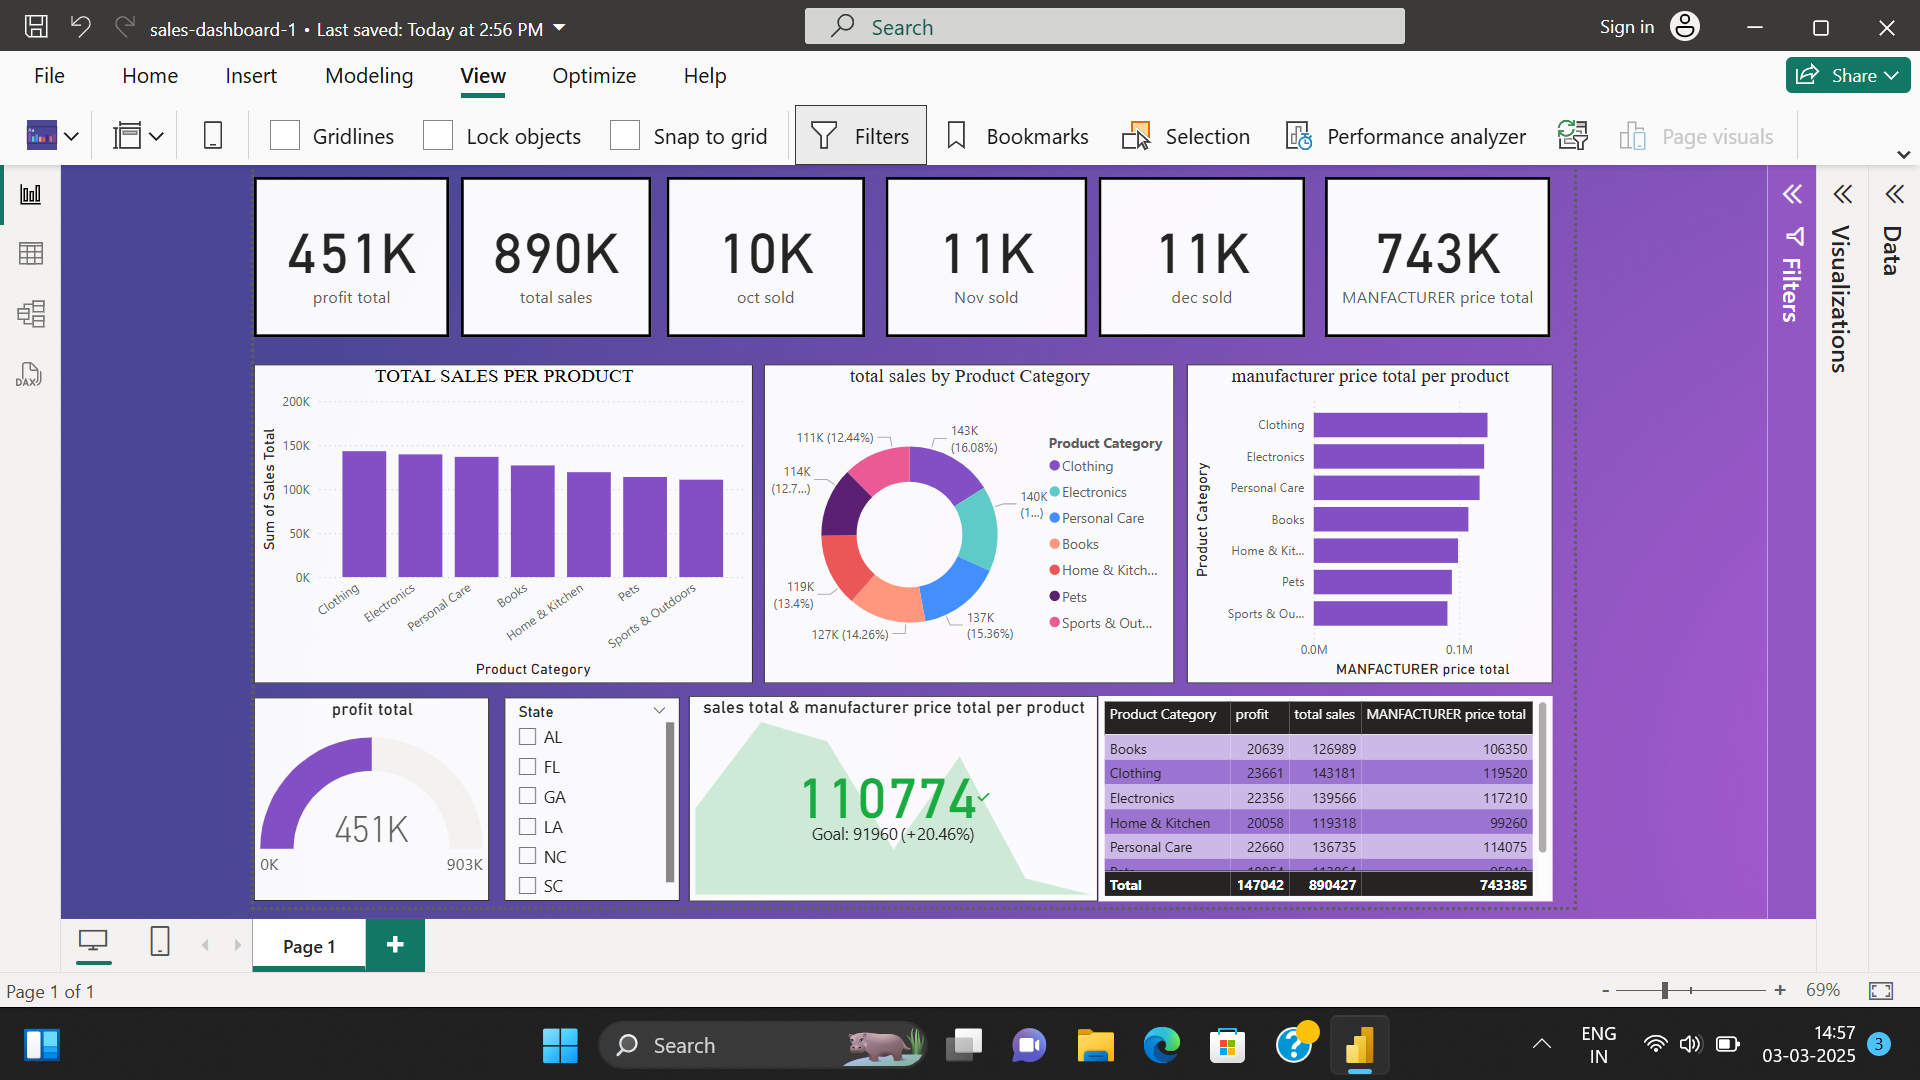

The page's visual inventory and layout, read from the dashboard file:
{"tool":"powerbi","page":{"name":"Page 1","canvas":[1280,720],"ordinal":0},"visuals":[{"type":"card","fields":{"Values":["Table134.profit total"]},"box":[0,11.3,189.4,155.4],"z":0},{"type":"card","fields":{"Values":["Table134.total sales"]},"box":[200.8,11.3,184.6,155.4],"z":1000},{"type":"slicer","fields":{"Values":["Table134.State"]},"box":[242.9,516.5,170,197.5],"z":2000},{"type":"card","fields":{"Values":["Table134.oct sold"]},"box":[399.9,11.3,192.7,155.4],"z":3000},{"type":"card","fields":{"Values":["Table134.Nov sold"]},"box":[612.1,11.3,195.9,155.4],"z":4000},{"type":"card","fields":{"Values":["Table134.dec sold"]},"box":[819.3,11.3,200.8,155.4],"z":5000},{"type":"clusteredColumnChart","title":"TOTAL SALES PER PRODUCT","fields":{"Category":["Table134.Product Category"],"Y":["Sum(Table134.Sales Total)"]},"box":[0,194.3,484.1,309.3],"z":6000},{"type":"gauge","fields":{"Y":["Table134.profit total"]},"box":[0,516.5,228.3,197.5],"z":7000},{"type":"donutChart","fields":{"Y":["Table134.total sales"],"Category":["Table134.Product Category"]},"box":[495.5,194.3,398.3,309.3],"z":8000},{"type":"card","fields":{"Values":["Table134.MANFACTURER price total"]},"box":[1039.5,11.3,218.6,155.4],"z":9000},{"type":"clusteredBarChart","title":"manufacturer price total per product","fields":{"Category":["Table134.Product Category"],"Y":["Table134.MANFACTURER price total"]},"box":[905.1,194.3,354.6,309.3],"z":10000},{"type":"kpi","title":"sales total & manufacturer price total per product","fields":{"TrendLine":["Table134.Product Category"],"Goal":["Table134.MANFACTURER price total"],"Indicator":["Sum(Table134.Sales Total)"]},"box":[422.6,514.9,396.7,199.2],"z":11000},{"type":"tableEx","fields":{"Values":["Table134.Product Category","Table134.profit","Table134.total sales","Table134.MANFACTURER price total"]},"box":[819.3,514.9,440.4,199.2],"z":12000}]}

Visuals, with their boxes on the page's 1280x720 design canvas (x1, y1, x2, y2). These are canvas units, not pixel positions in the 1920x1080 screenshot, which may show the page scaled, cropped or inside an application window:
card - Table134.profit total: {"left": 0, "top": 11, "right": 189, "bottom": 167}
card - Table134.total sales: {"left": 201, "top": 11, "right": 385, "bottom": 167}
slicer - Table134.State: {"left": 243, "top": 516, "right": 413, "bottom": 714}
card - Table134.oct sold: {"left": 400, "top": 11, "right": 593, "bottom": 167}
card - Table134.Nov sold: {"left": 612, "top": 11, "right": 808, "bottom": 167}
card - Table134.dec sold: {"left": 819, "top": 11, "right": 1020, "bottom": 167}
"TOTAL SALES PER PRODUCT" clusteredColumnChart: {"left": 0, "top": 194, "right": 484, "bottom": 504}
gauge - Table134.profit total: {"left": 0, "top": 516, "right": 228, "bottom": 714}
donutChart - Table134.total sales x Table134.Product Category: {"left": 496, "top": 194, "right": 894, "bottom": 504}
card - Table134.MANFACTURER price total: {"left": 1040, "top": 11, "right": 1258, "bottom": 167}
"manufacturer price total per product" clusteredBarChart: {"left": 905, "top": 194, "right": 1260, "bottom": 504}
"sales total & manufacturer price total per product" kpi: {"left": 423, "top": 515, "right": 819, "bottom": 714}
tableEx - Table134.Product Category x Table134.profit: {"left": 819, "top": 515, "right": 1260, "bottom": 714}
